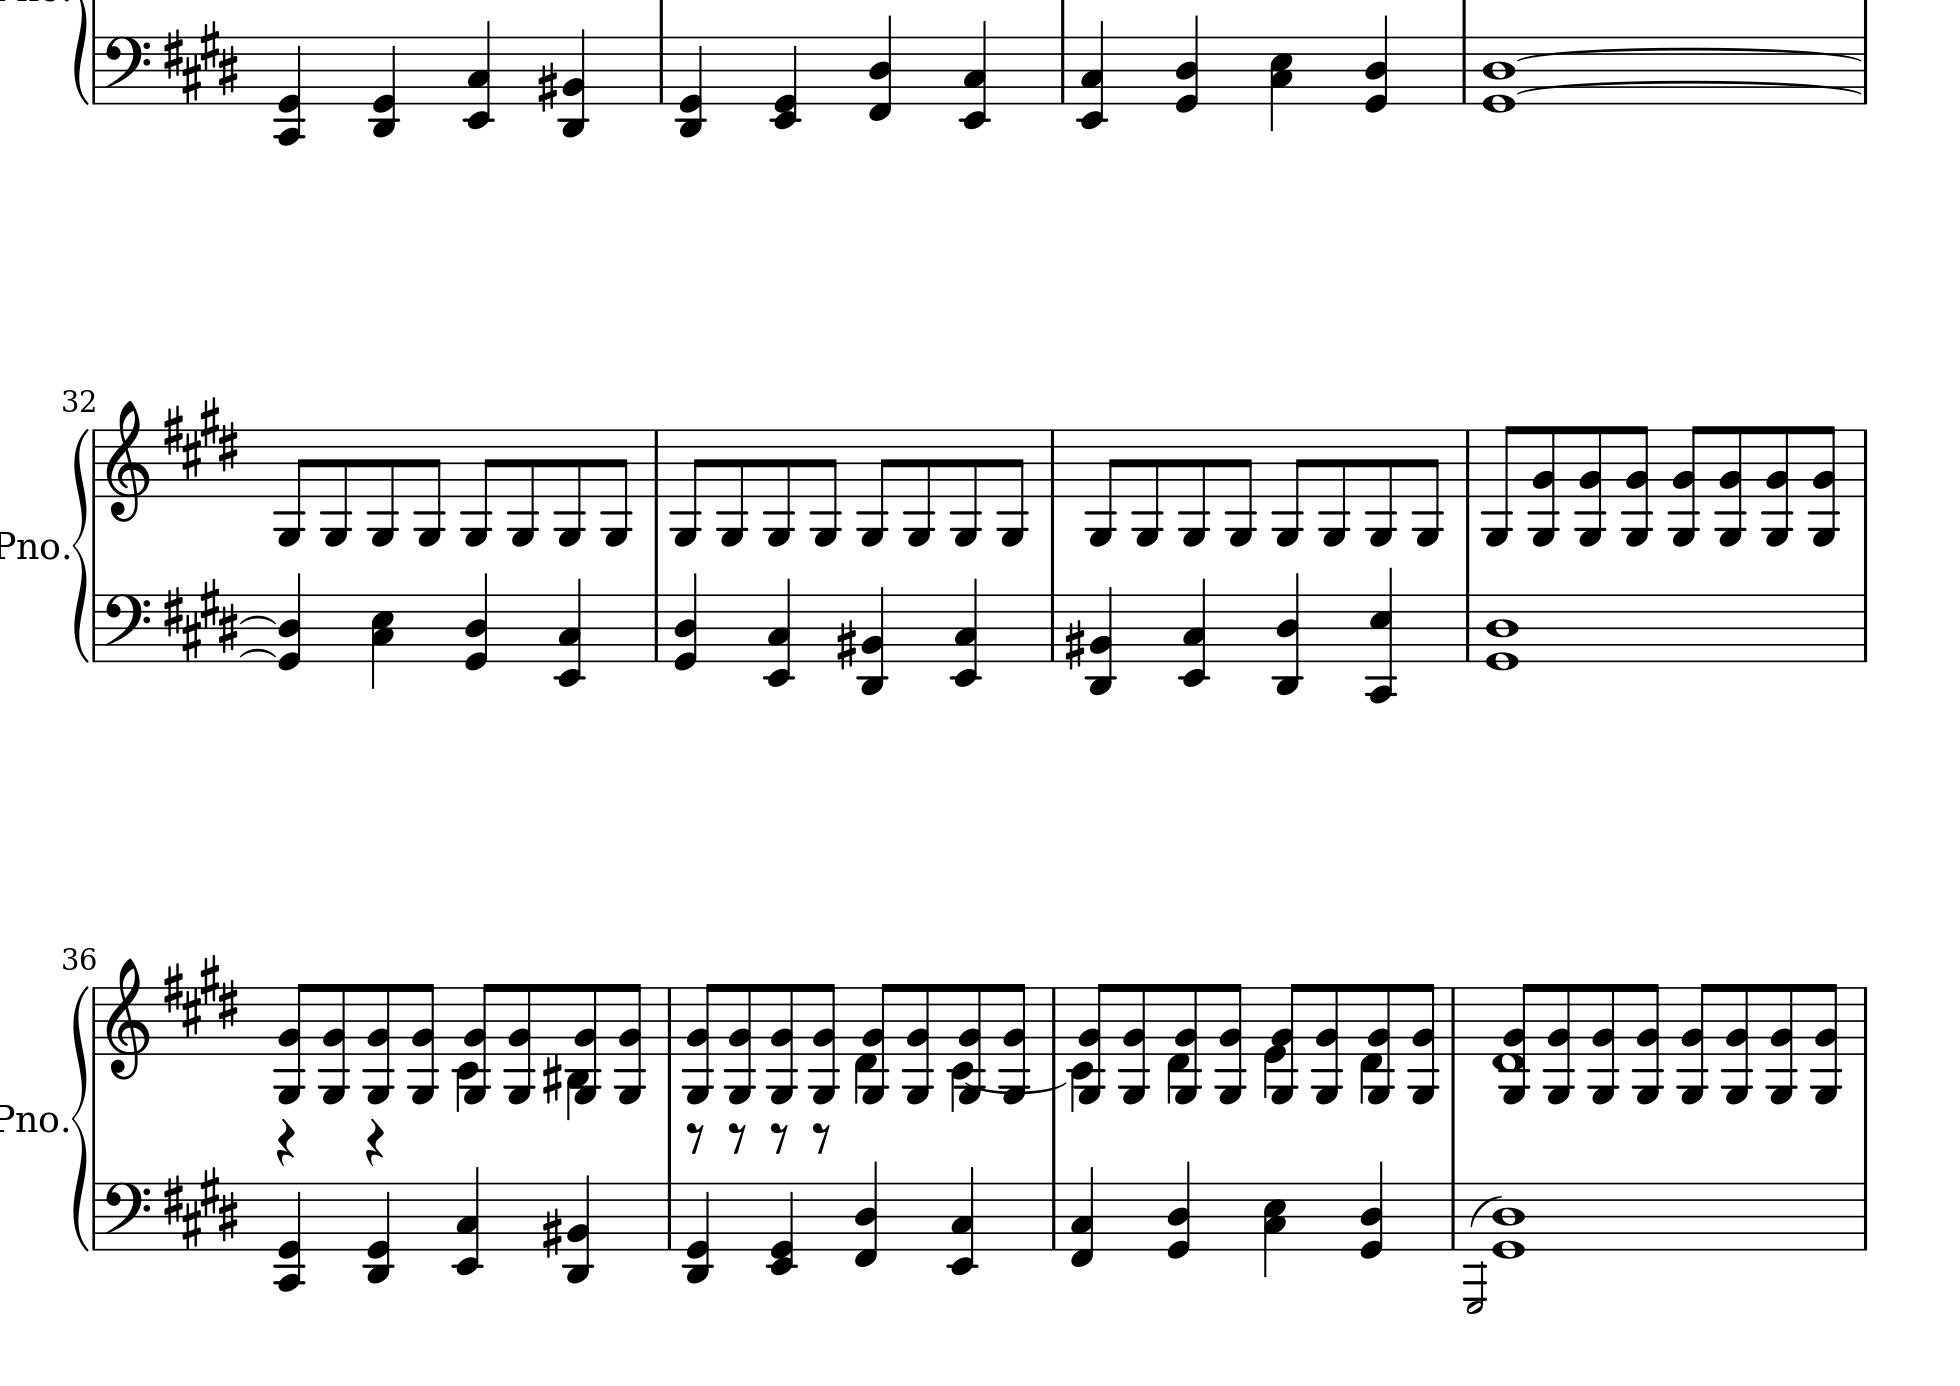1_0_4: (1485, 592, 1522, 673), (1482, 36, 1518, 114)
1_1_4: (1491, 1182, 1527, 1261)
2: (76, 385, 96, 412)
3: (60, 387, 78, 412), (60, 945, 78, 970)
4_-1_3: (1069, 1168, 1096, 1267)
4_-1_4: (865, 13, 895, 121), (850, 1162, 880, 1270)
4_-2_0: (765, 1180, 799, 1278), (769, 34, 804, 130)
4_-2_3: (955, 21, 996, 130), (448, 1167, 486, 1276), (760, 577, 796, 691), (460, 19, 496, 130), (1074, 21, 1110, 130), (945, 1167, 981, 1276), (949, 579, 984, 688), (552, 579, 586, 688), (1179, 580, 1212, 690)
4_-3_0: (673, 36, 709, 141), (367, 36, 402, 139), (682, 1180, 715, 1284), (364, 1182, 396, 1285)
4_-3_2: (1084, 586, 1119, 699), (562, 1176, 595, 1285), (559, 27, 591, 139), (858, 586, 889, 696)
4_-3_4: (1272, 573, 1306, 696)
4_-4_0: (271, 1182, 309, 1294), (271, 36, 307, 147)
4_-4_5: (1362, 568, 1398, 706)
4_0_4: (1173, 15, 1201, 115), (1165, 1161, 1194, 1258), (1365, 13, 1392, 114), (463, 573, 490, 672), (1359, 1162, 1386, 1261), (673, 573, 699, 673), (277, 571, 303, 672)
4_3_5: (1269, 34, 1293, 133), (370, 592, 394, 691), (1263, 1180, 1287, 1279)
6: (78, 943, 97, 970)
8_-5: (856, 426, 894, 549), (1272, 426, 1309, 549), (273, 426, 310, 547), (1482, 423, 1518, 547), (670, 426, 706, 547), (1086, 426, 1122, 547), (460, 427, 496, 547), (1179, 424, 1212, 550), (367, 424, 400, 547), (601, 426, 634, 547), (1413, 426, 1446, 547), (763, 424, 795, 549), (1320, 426, 1351, 549), (1366, 426, 1398, 549), (321, 426, 352, 547), (508, 426, 540, 547), (555, 426, 586, 547), (951, 426, 982, 547), (999, 426, 1030, 547), (415, 426, 445, 549), (718, 426, 748, 547), (811, 426, 841, 547), (904, 426, 934, 547), (1134, 426, 1164, 547), (1227, 426, 1257, 547)
8_-5_2: (273, 982, 310, 1104), (1527, 424, 1561, 549), (1669, 423, 1704, 547), (1758, 423, 1792, 547), (1804, 423, 1839, 547), (1575, 421, 1608, 547), (1713, 424, 1746, 550), (361, 979, 394, 1105), (462, 979, 495, 1105), (684, 979, 717, 1105), (807, 979, 840, 1105), (901, 979, 934, 1105), (1807, 979, 1840, 1105), (1620, 423, 1653, 547), (318, 982, 351, 1107), (403, 979, 436, 1104), (502, 979, 535, 1104), (568, 982, 601, 1107), (610, 982, 643, 1107), (723, 981, 756, 1105), (766, 982, 799, 1107), (859, 981, 892, 1105), (952, 981, 985, 1105), (997, 981, 1030, 1105), (1077, 981, 1110, 1105), (1117, 982, 1150, 1107), (1170, 982, 1203, 1107), (1212, 981, 1245, 1105), (1269, 981, 1302, 1105), (1311, 981, 1344, 1105), (1360, 981, 1393, 1105), (1405, 982, 1438, 1107), (1501, 982, 1534, 1107), (1539, 982, 1572, 1107), (1584, 982, 1617, 1107), (1630, 982, 1663, 1107), (1680, 982, 1713, 1107), (1719, 982, 1752, 1107), (1764, 982, 1797, 1107)
Brace: (70, 981, 90, 1251), (70, 424, 88, 661)
E_S: (160, 18, 241, 106), (160, 1165, 241, 1251), (160, 397, 240, 481), (160, 577, 240, 661), (162, 954, 238, 1036)
Fclef: (102, 592, 151, 664), (102, 1180, 151, 1252), (103, 34, 151, 106)
Gclef: (103, 955, 151, 1081), (103, 399, 151, 523)
Pno: (1, 526, 61, 565), (1, 1099, 60, 1138)
Rests4: (274, 1117, 297, 1168), (363, 1117, 385, 1168)
Rests8: (726, 1119, 748, 1155), (810, 1119, 832, 1155), (768, 1119, 790, 1153), (685, 1119, 706, 1155)
Sharp: (535, 58, 559, 112), (834, 616, 858, 670), (1062, 616, 1086, 670), (540, 1206, 562, 1258), (541, 1053, 562, 1105)
Single_barline: (1443, 987, 1462, 1054), (1857, 37, 1875, 106), (1855, 592, 1873, 661), (1456, 36, 1474, 103), (646, 429, 664, 496), (1044, 429, 1062, 496), (1459, 429, 1477, 496), (1459, 594, 1477, 661), (1444, 1182, 1462, 1249), (652, 37, 670, 103), (1857, 427, 1873, 498), (1857, 985, 1873, 1056), (1045, 985, 1062, 1054), (1044, 594, 1060, 661), (661, 1182, 678, 1249), (1857, 1182, 1873, 1249), (648, 595, 664, 661), (661, 987, 678, 1053), (88, 592, 103, 661), (1047, 1182, 1062, 1249), (1056, 37, 1071, 103), (88, 429, 102, 496), (88, 987, 102, 1054), (88, 1182, 102, 1249), (88, 37, 102, 103)
Slur: (1470, 1194, 1501, 1224), (240, 646, 276, 658), (238, 613, 277, 624)
